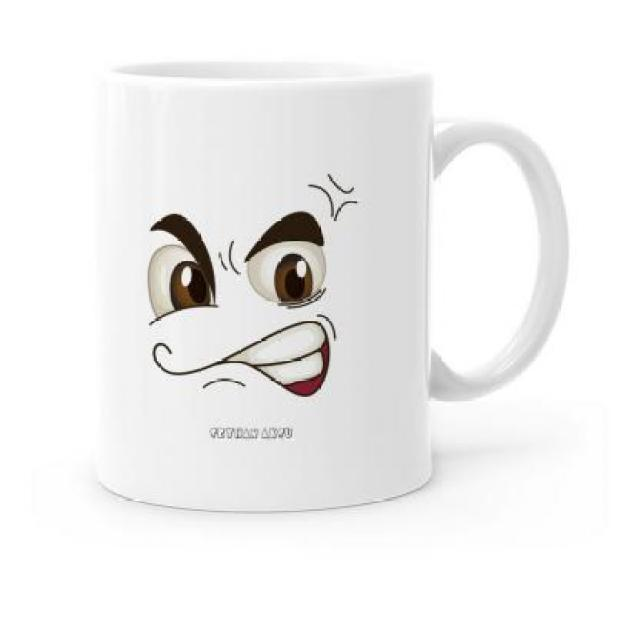taza: (78, 60, 594, 517)
